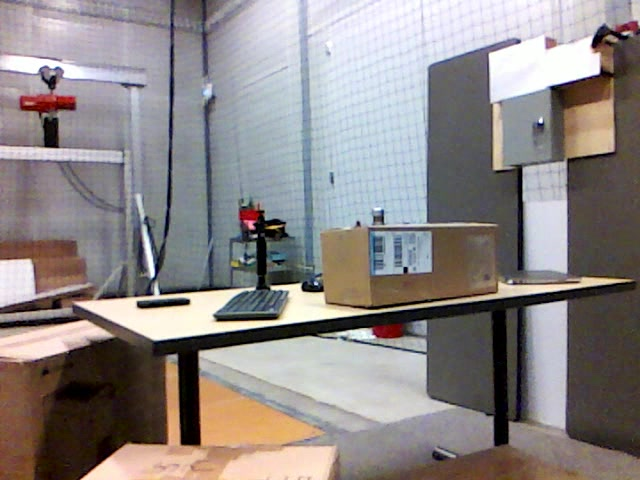box: (1, 320, 168, 480), (319, 223, 500, 308), (76, 441, 338, 480)
